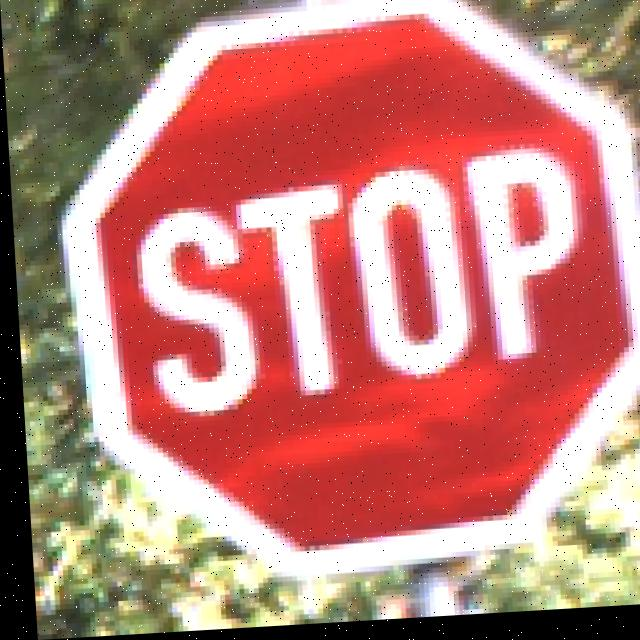stop: (81, 9, 640, 584)
